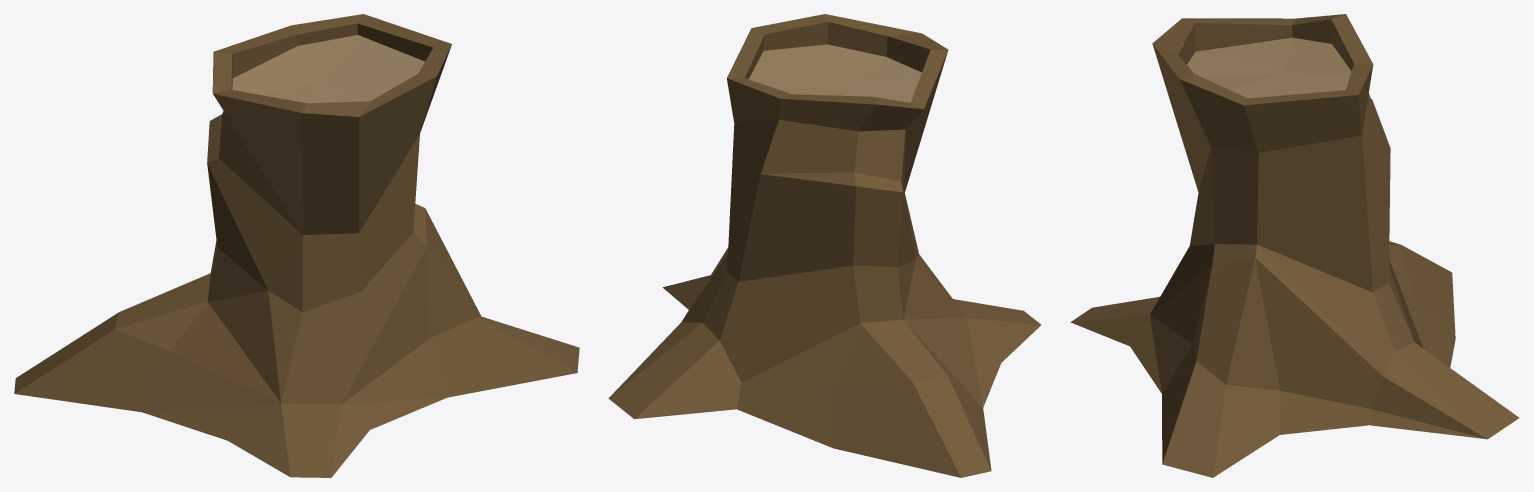
File: model_polytope_log_stump02.fbx
The picture shows the model from 3 angles, left to right: view 1: azimuth 30°, elevation 25°; view 2: azimuth 150°, elevation 25°; view 3: azimuth 270°, elevation 25°; orthographic projection. The views are drawn at different scales.
Parts seen in each view (by area): view 1: model_polytope_log_stump02; view 2: model_polytope_log_stump02; view 3: model_polytope_log_stump02.
Boxes of the visible parts, x1,y1,x2,y2 form: model_polytope_log_stump02: [14, 14, 579, 477]; model_polytope_log_stump02: [608, 14, 1040, 477]; model_polytope_log_stump02: [1070, 14, 1519, 477].
Bounding box in the file's own units: 105 × 72.41 × 88.92.
